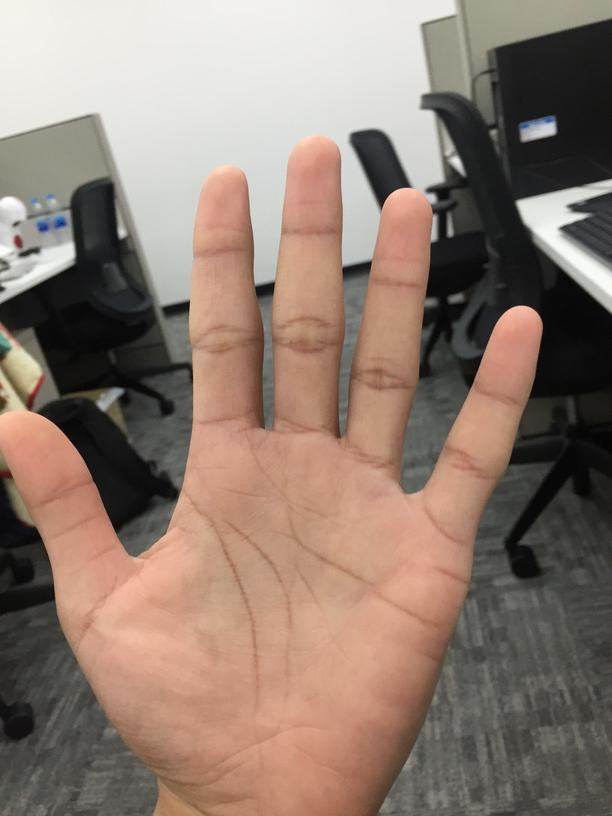hand: (0, 134, 544, 816)
